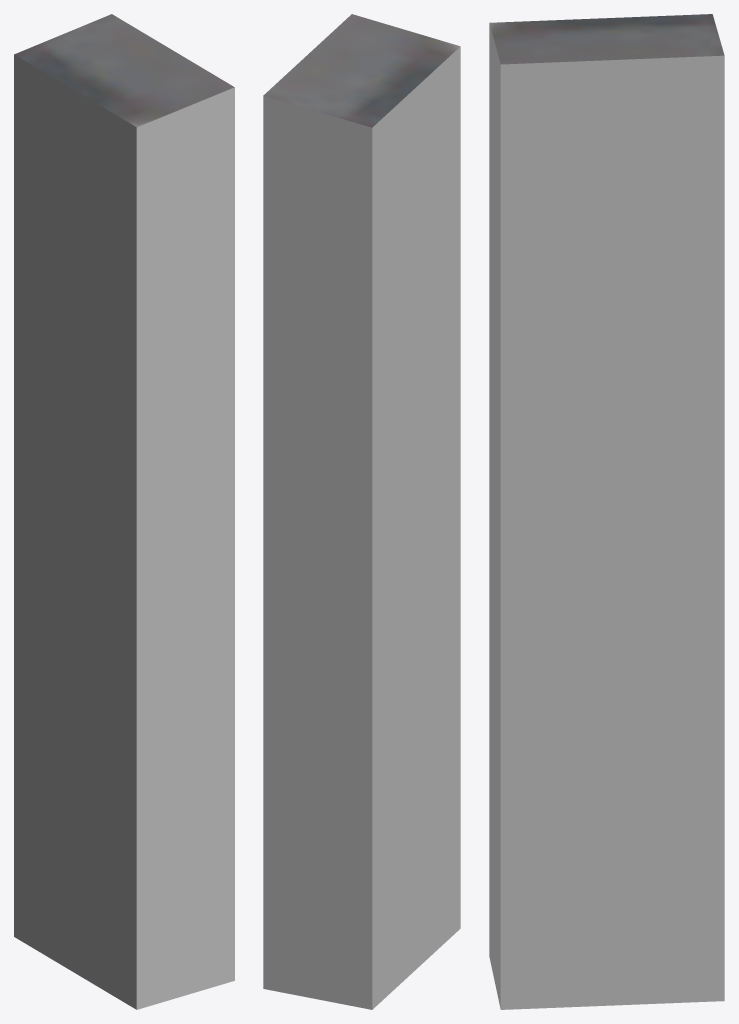
Rendered from DEBW_0010007THWJ.gltf.
3 renders of one model, left to right at view 1: azimuth 30°, elevation 25°; view 2: azimuth 150°, elevation 25°; view 3: azimuth 270°, elevation 25°, orthographic. The views are drawn at different scales.
Parts seen in each view (by area): view 1: Z_UP; view 2: Z_UP; view 3: Z_UP.
Part boxes in pixels (x1,y1,x2,y2): Z_UP: [14, 14, 234, 1009]; Z_UP: [263, 14, 460, 1009]; Z_UP: [489, 14, 724, 1009].
Size of the model in its own units: 2.46 by 17.43 by 3.93.
Materials: 2 (1 with a texture image).
